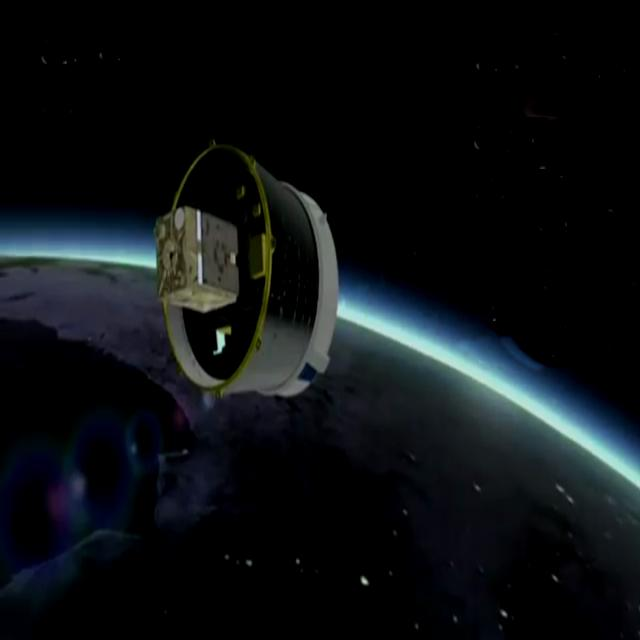medium_debris: (144, 129, 343, 414)
